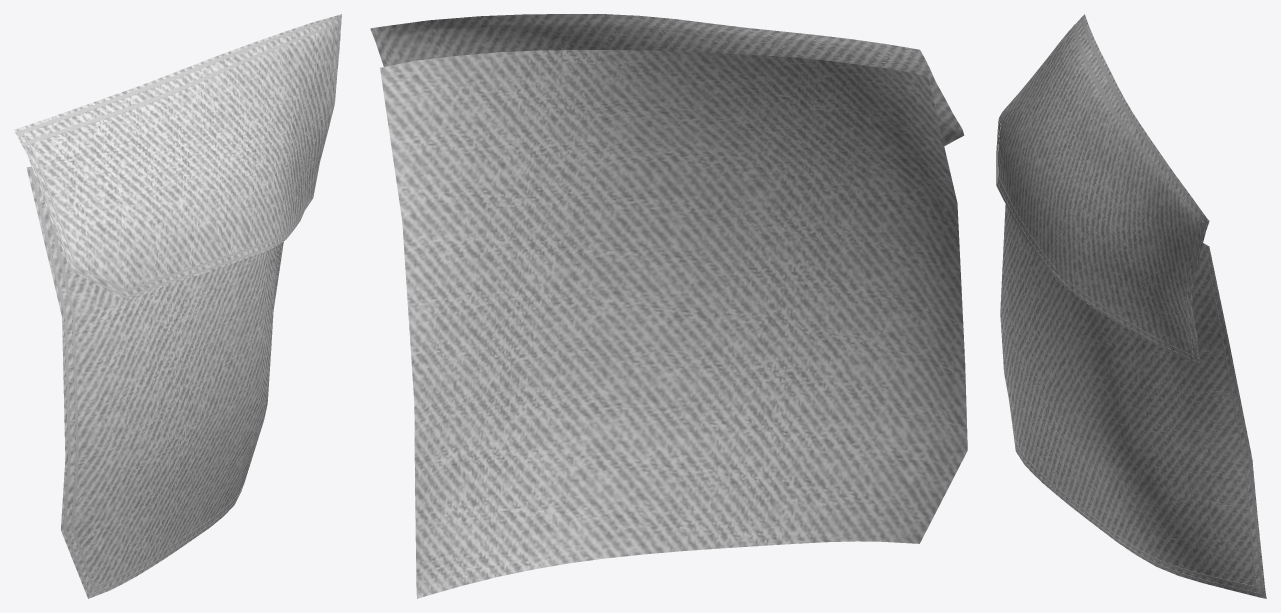
Rendered from Pocket_Left_V1.glb.
The picture shows the model from 3 angles, left to right: view 1: azimuth 30°, elevation 25°; view 2: azimuth 150°, elevation 25°; view 3: azimuth 270°, elevation 25°; orthographic projection. The views are drawn at different scales.
Visible parts, largest first — view 1: Pocket_Left_V11, Rope1; view 2: Pocket_Left_V11; view 3: Pocket_Left_V11, Rope1.
Boxes of the visible parts, box(x1,y1,x2,y2) form: Pocket_Left_V11: box(14, 14, 341, 598); Rope1: box(15, 15, 341, 596); Pocket_Left_V11: box(370, 14, 967, 598); Pocket_Left_V11: box(996, 14, 1266, 598); Rope1: box(996, 16, 1264, 596).
Bounding box in the file's own units: 0.2274 × 0.2583 × 0.1448.
Materials: 2 (2 with a texture image).
